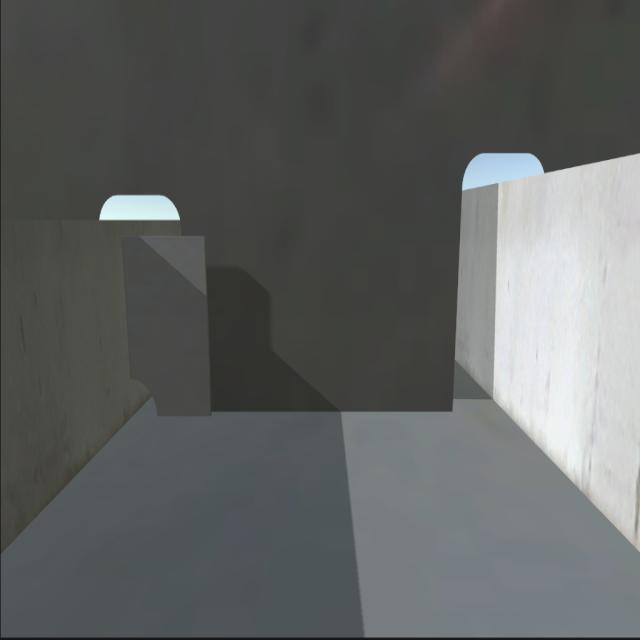fillet_hole: (128, 370, 163, 423)
fillet_yong_jeop_jang: (150, 404, 452, 422)
longi_yong_jeop_jang: (116, 235, 138, 376)
plate_CP01: (120, 228, 210, 416)
